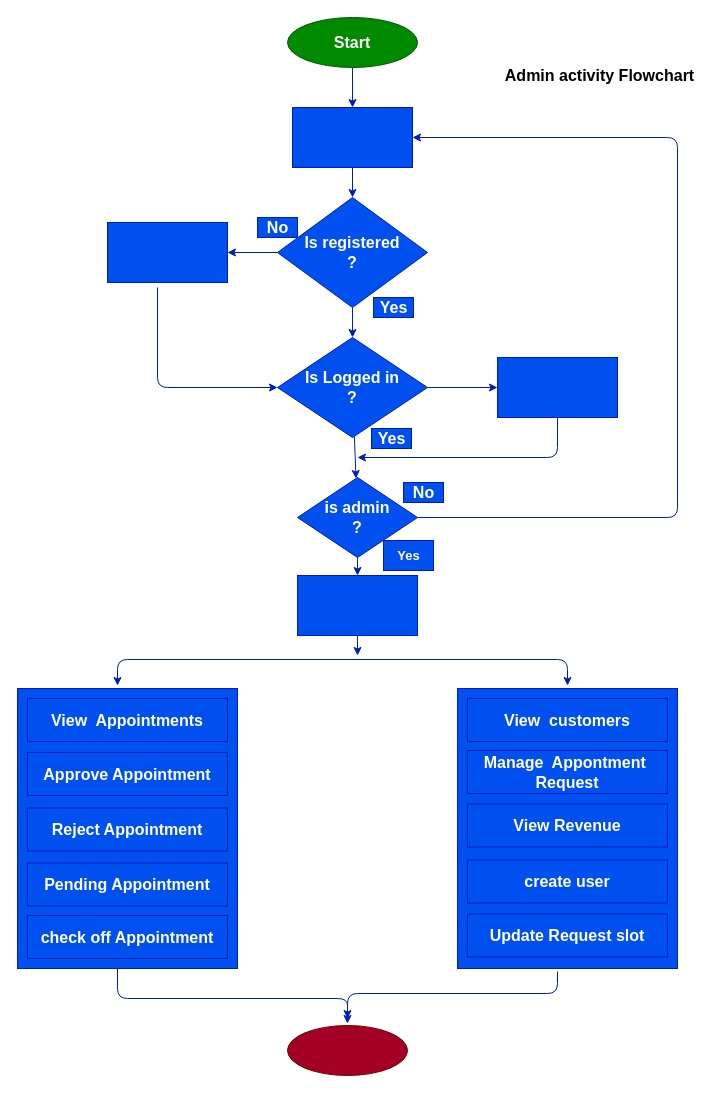
The diagram is 722 pixels wide and 1093 high, and some of its shapes have lost their labels. Each missing label, with the centre of its shape:
Dashboard: (x=357, y=605)
Home: (x=352, y=137)
Login: (x=557, y=387)
Register: (x=167, y=252)
Stop: (x=347, y=1050)
